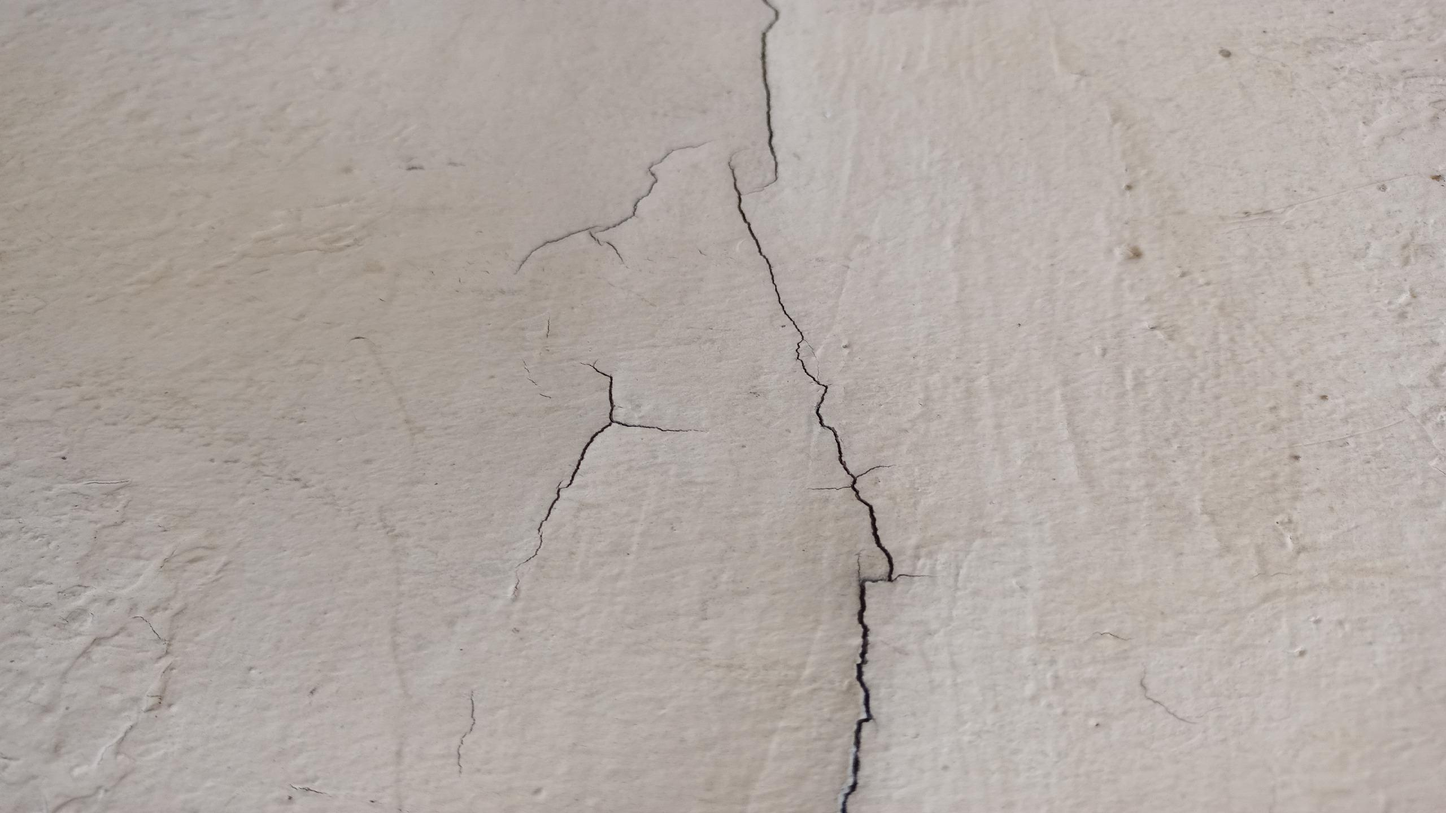crack: (722, 156, 902, 793), (747, 4, 787, 192)
